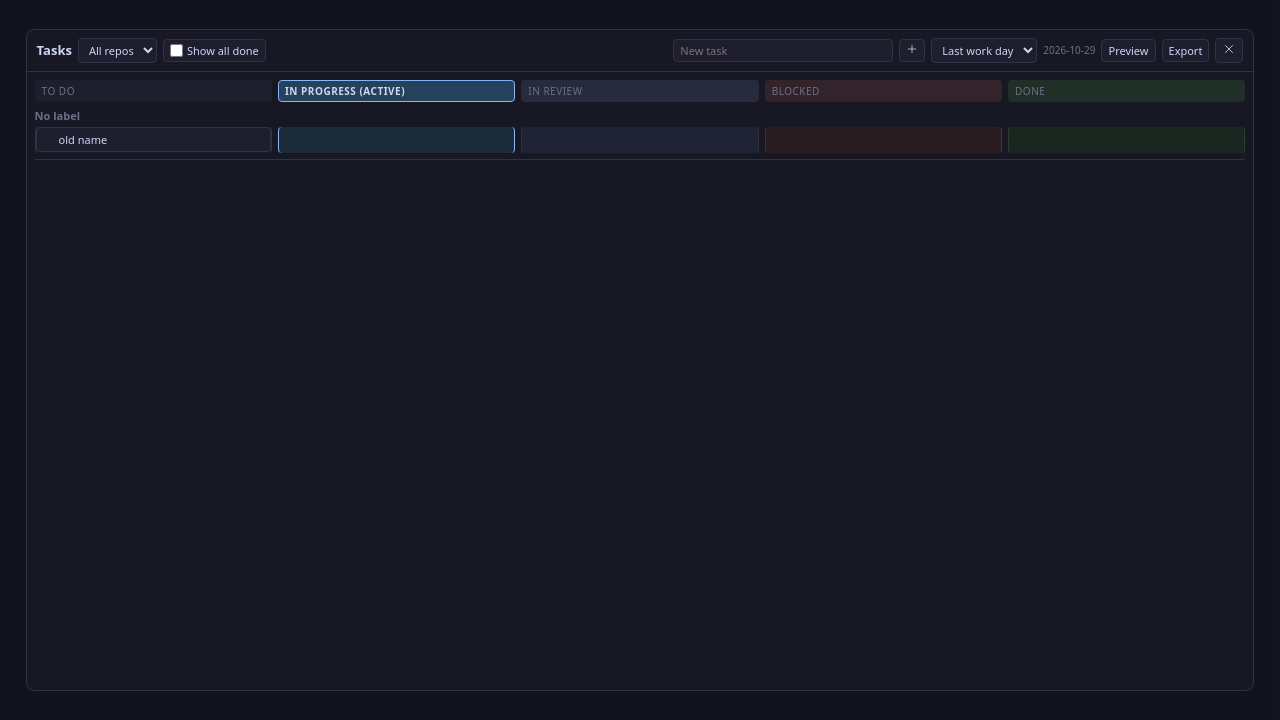
Scenario: renaming a task › updates the card, not just the panel
Expected: the text "old name" is shown, [59,132,107,147]
Click the button "old name".
click(153, 139)  # box [36,127,271,152]
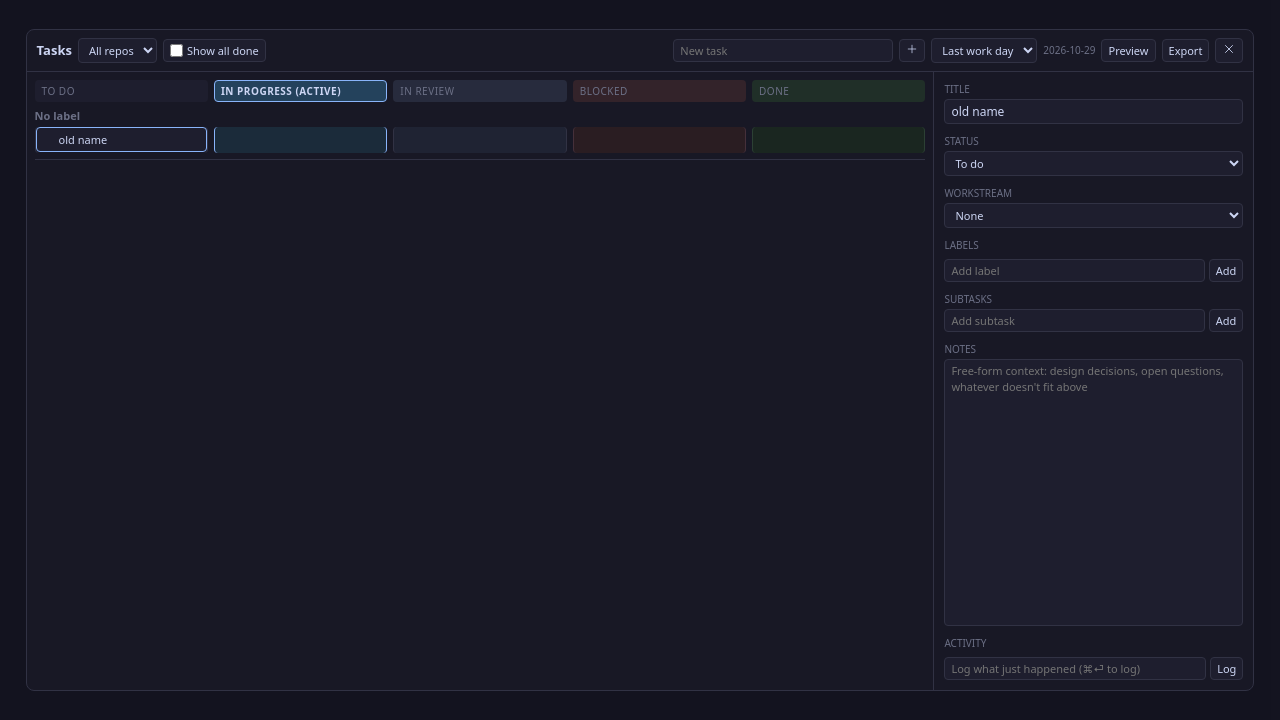
Replace the text in the field with test id "detail-title" with "new name" at (1094, 111), box [944,99,1243,124]
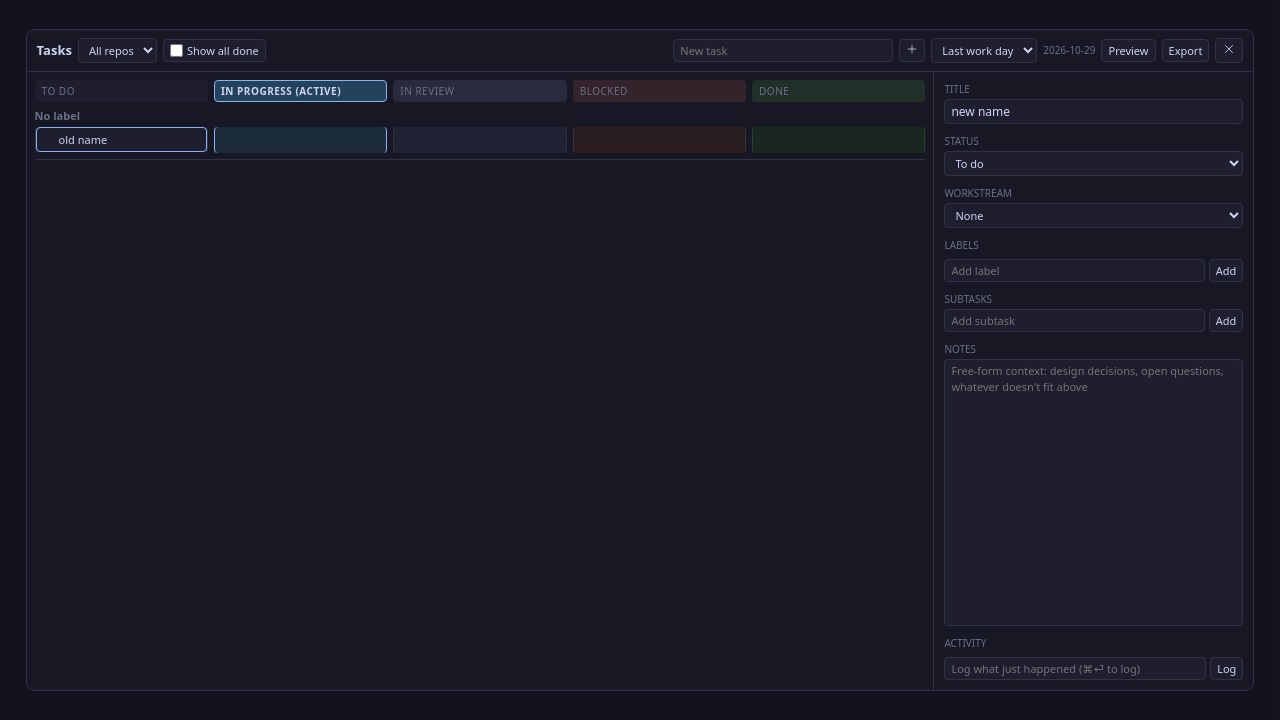
Leave the field with test id "detail-title", box [944,99,1243,124]
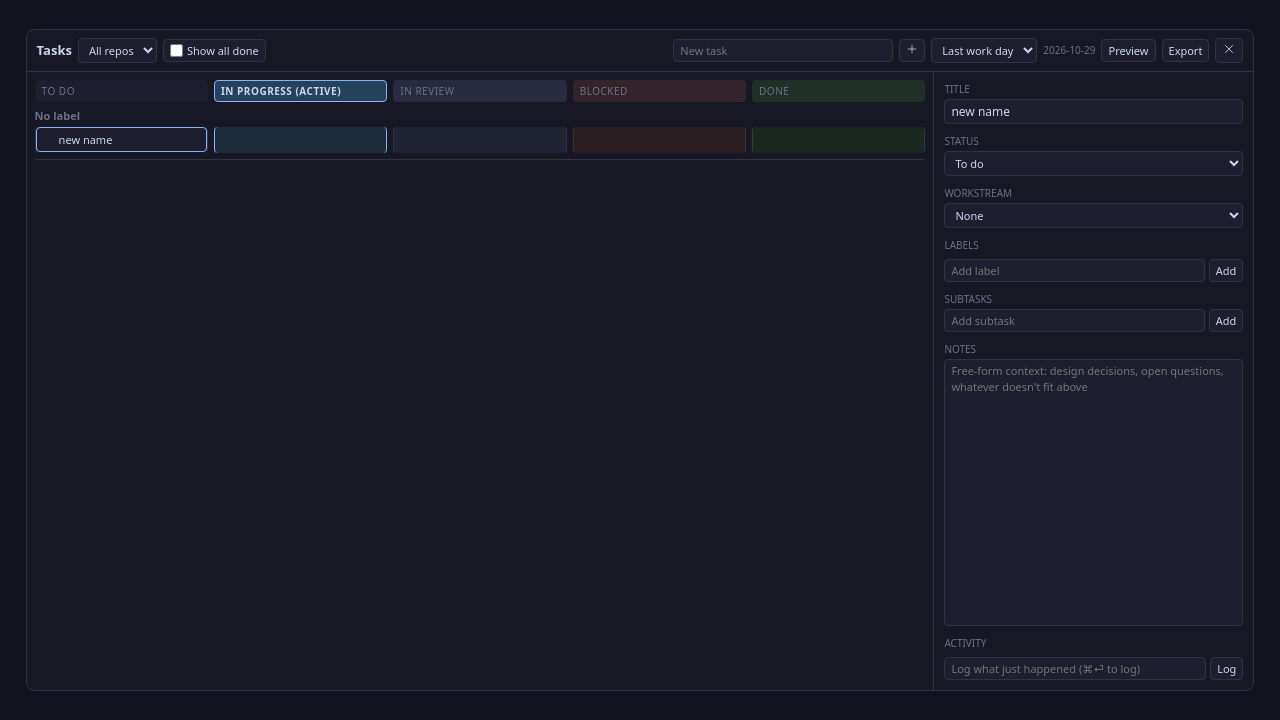
Result: the text "new name" is shown at [59,132,112,147]
